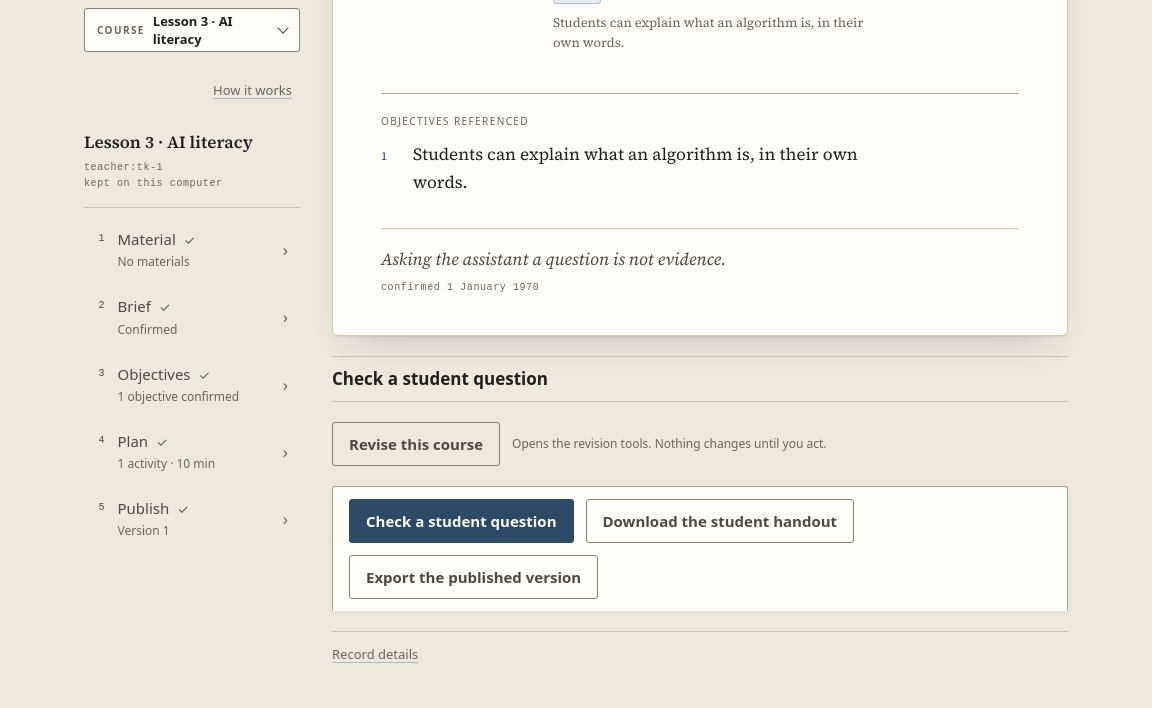
Scenario: LiveCourse — thin client of the host › offers 'Revise this course' on a published course; opening it writes nothing and says nothing is being drafted
(page scrolled)
Step 1. Click the button "Revise this course" → (416, 444), box 332,422 -> 500,466
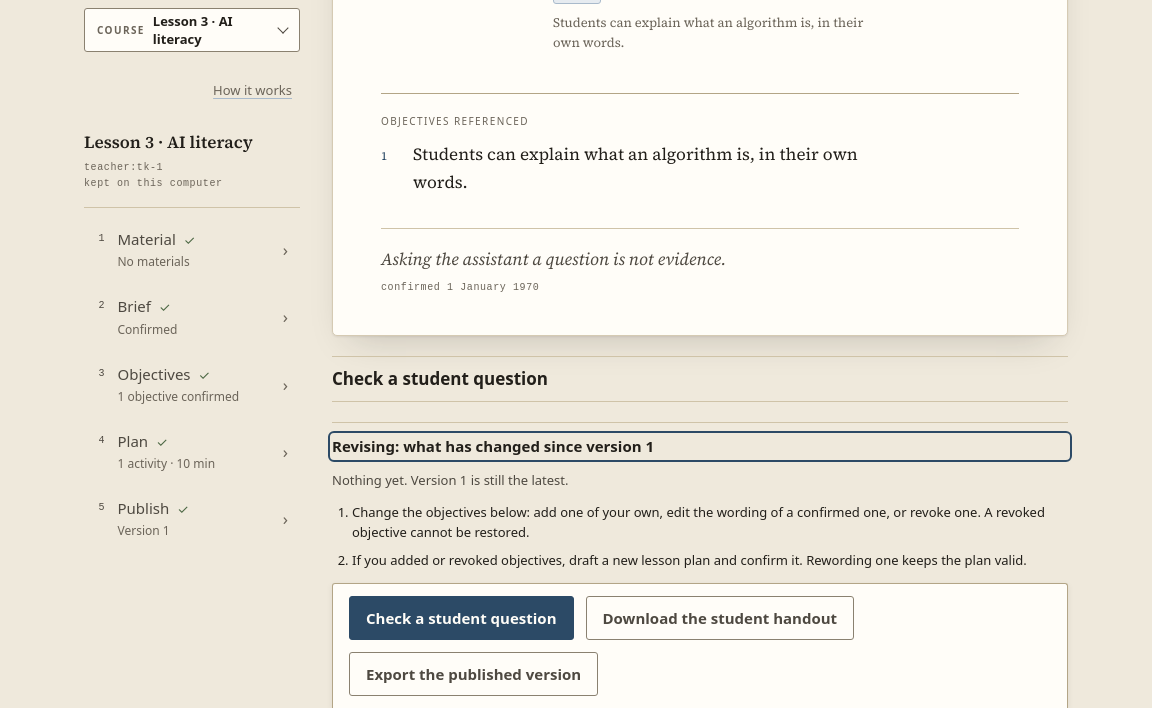
Expected: the button "Download the student handout" is shown, 586,596 -> 854,640
Expected: the text "Nothing yet. Version 1 is still the latest." is shown, 332,471 -> 568,489
